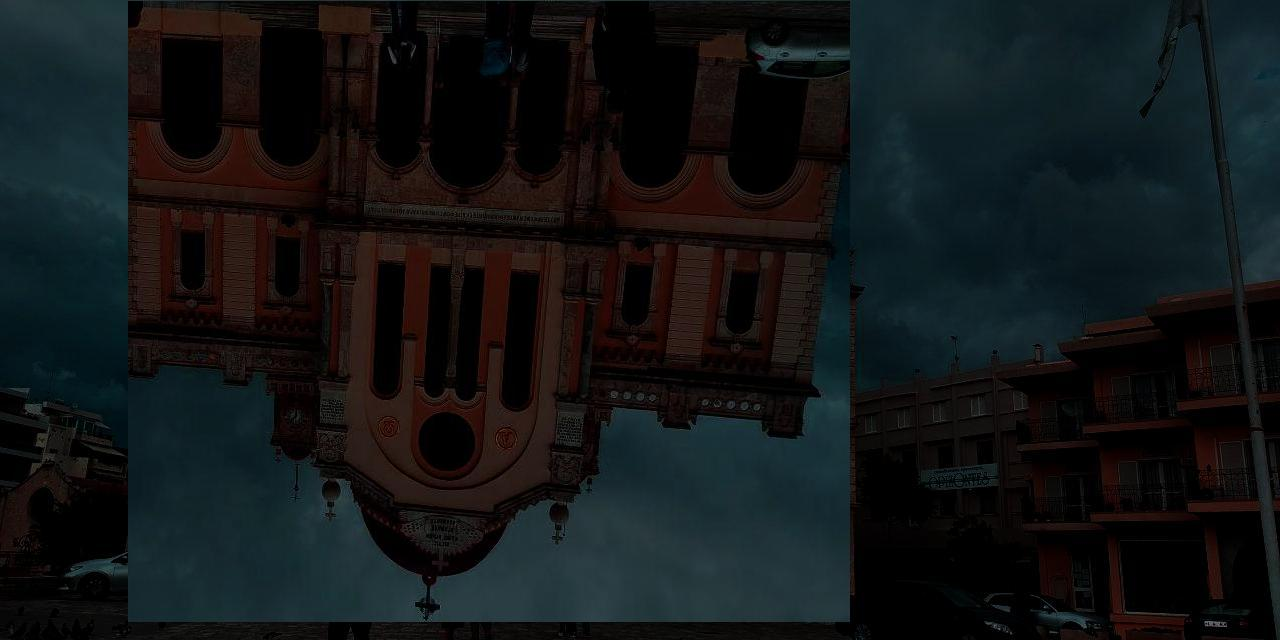Agios Minas: (129, 2, 851, 623)
